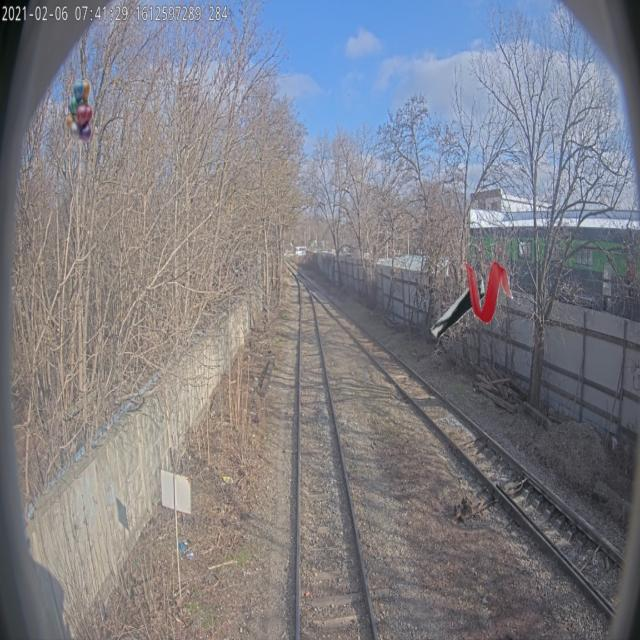balloon: (66, 79, 93, 143)
floating object: (431, 274, 488, 338), (460, 260, 514, 324)
